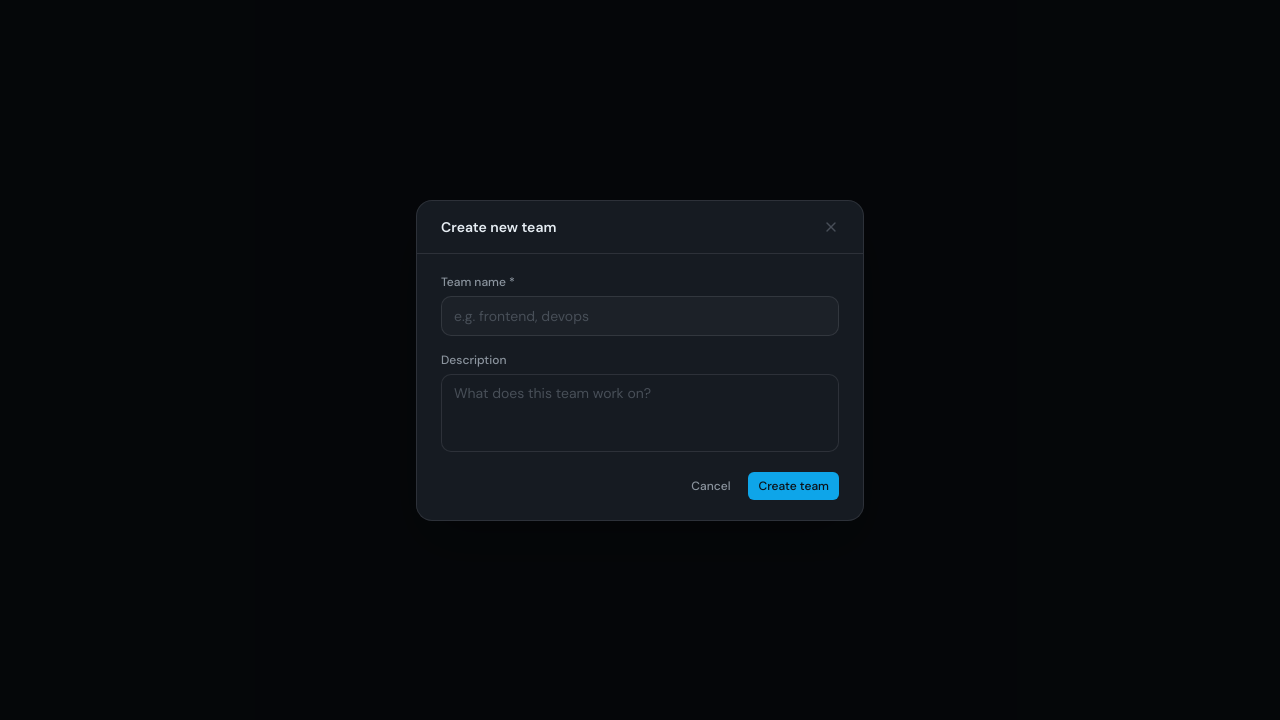
Test: CreateTeamModal › cancel and close › clears error when Cancel is clicked
The image size is (1280, 720).
Click the button "Create team". click: point(794, 486)
box: [748, 472, 839, 500]
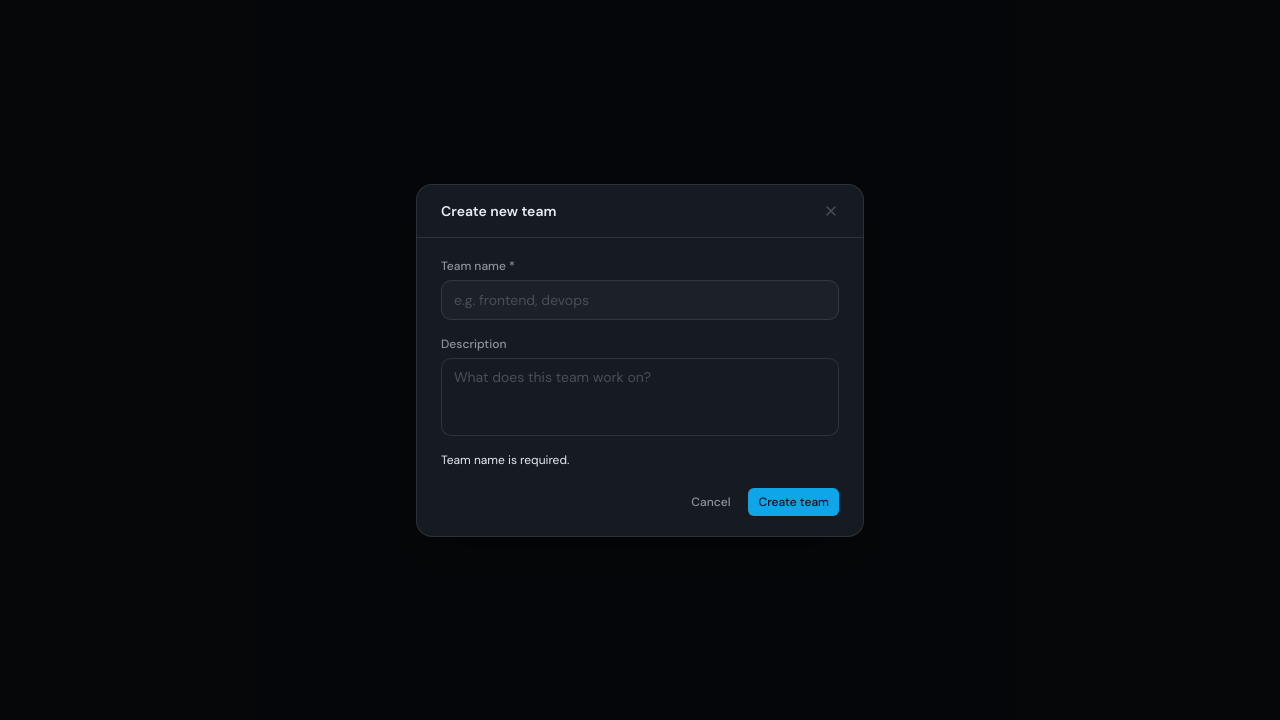
Expected: the text "Team name is required." is shown, [441, 452, 569, 468]
Click the button "Cancel". click: point(711, 502)
box: [681, 488, 740, 516]
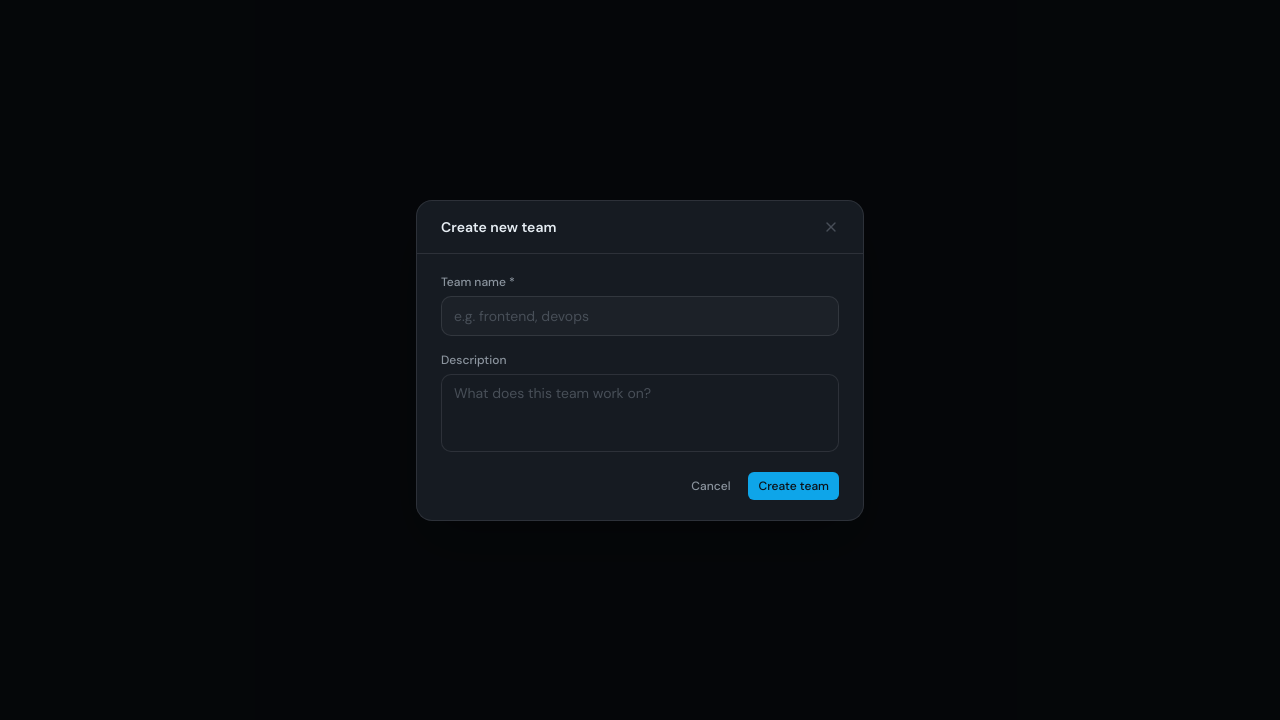
Expected: the text "Team name is required." is gone
